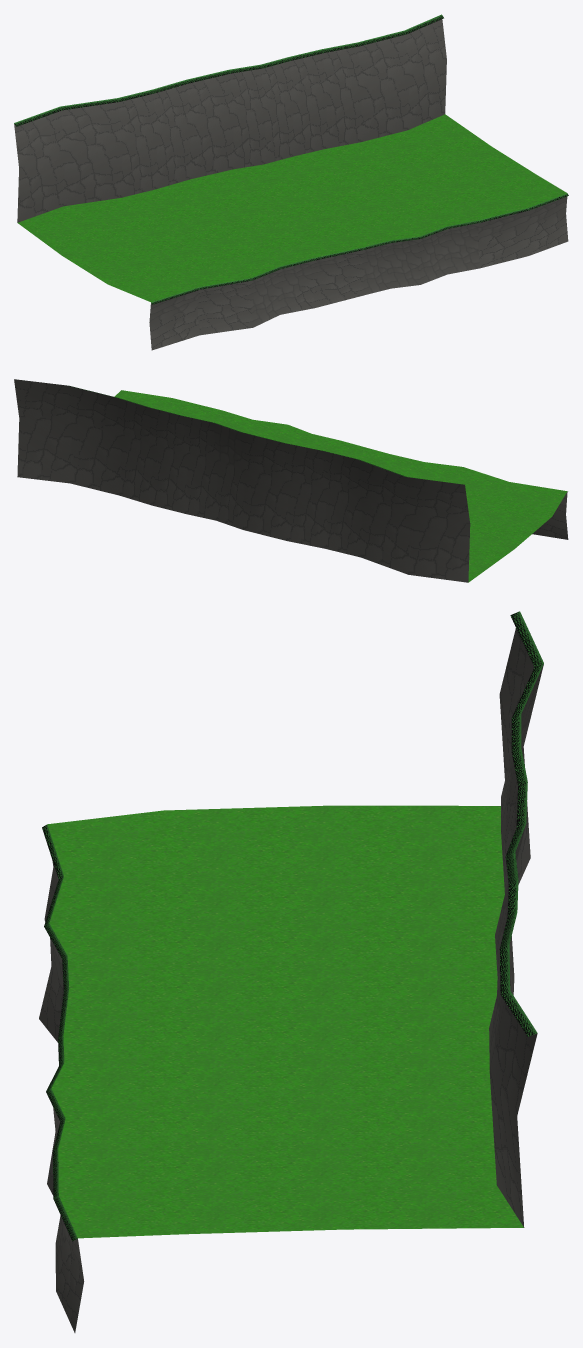
Rendered from IntroMesh.obj.
The picture shows the model from 3 angles, top to bottom: view 1: azimuth 30°, elevation 25°; view 2: azimuth 150°, elevation 25°; view 3: azimuth 270°, elevation 25°; orthographic projection. The views are drawn at different scales.
Parts seen in each view (by area): view 1: Plane; view 2: Plane; view 3: Plane.
Boxes of the visible parts, <box> form: Plane: <box>14,14,568,350</box>; Plane: <box>14,379,568,582</box>; Plane: <box>39,611,543,1332</box>.
Size of the model in its own units: 14.19 by 4.46 by 7.
